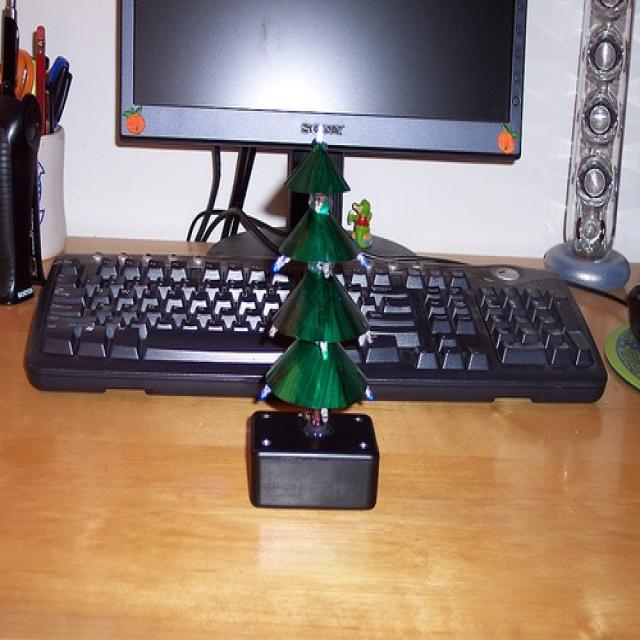tvmonitor: (114, 0, 527, 265)
